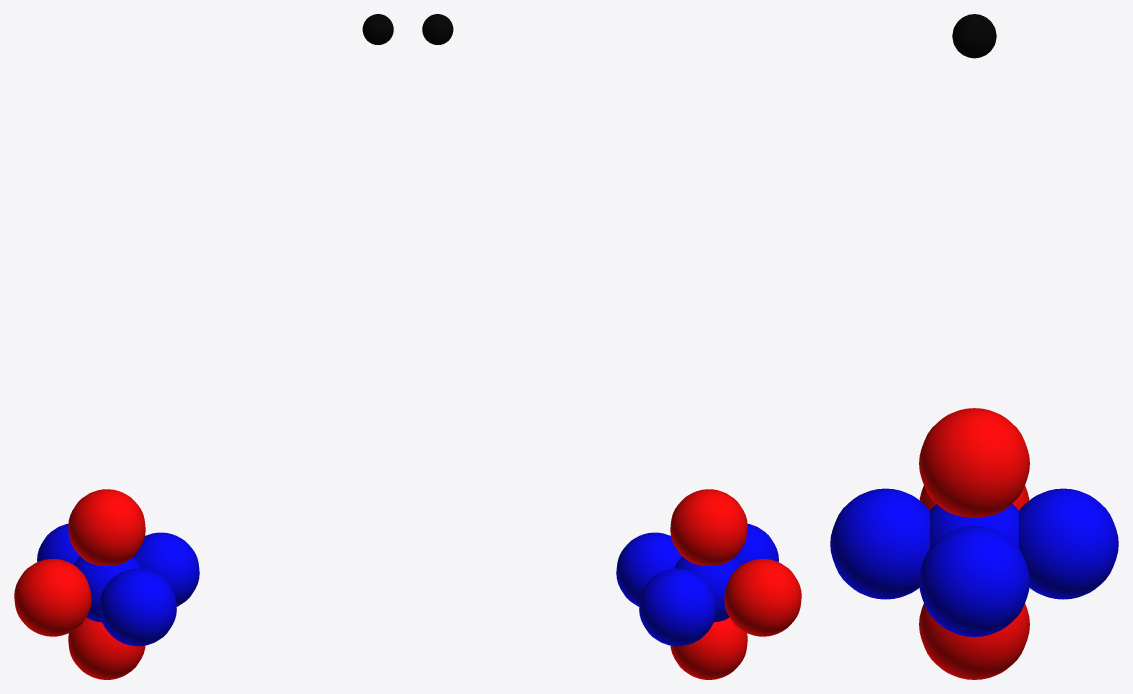
Rendered from electron_motion.glb.
The picture shows the model from 3 angles, left to right: view 1: azimuth 30°, elevation 25°; view 2: azimuth 150°, elevation 25°; view 3: azimuth 270°, elevation 25°; orthographic projection. The views are drawn at different scales.
Parts seen in each view (by area): view 1: pSphere8, pSphere1, pSphere4, pSphere5, pSphere9, pSphere7, pSphere6, pSphere10; view 2: pSphere6, pSphere1, pSphere4, pSphere5, pSphere9, pSphere7, pSphere8, pSphere10; view 3: pSphere9, pSphere4, pSphere6, pSphere8, pSphere5, pSphere7, pSphere10.
Part boxes in pixels (<box>): pSphere8: <box>99,568,176,646</box>; pSphere1: <box>14,559,91,636</box>; pSphere4: <box>68,489,145,565</box>; pSphere5: <box>68,617,145,679</box>; pSphere9: <box>133,532,199,606</box>; pSphere7: <box>74,556,141,622</box>; pSphere6: <box>37,523,80,564</box>; pSphere10: <box>362,14,393,44</box>; pSphere6: <box>639,568,716,646</box>; pSphere1: <box>724,559,801,636</box>; pSphere4: <box>670,489,747,565</box>; pSphere5: <box>670,617,747,679</box>; pSphere9: <box>616,532,682,606</box>; pSphere7: <box>674,556,741,622</box>; pSphere8: <box>735,523,778,564</box>; pSphere10: <box>422,14,453,44</box>; pSphere9: <box>919,526,1029,636</box>; pSphere4: <box>919,408,1029,517</box>; pSphere6: <box>1019,488,1118,599</box>; pSphere8: <box>830,488,929,599</box>; pSphere5: <box>919,603,1029,679</box>; pSphere7: <box>930,504,1018,547</box>; pSphere10: <box>952,14,996,58</box>.
Bounding box in the file's own units: 0.5519 × 0.8423 × 0.26.
